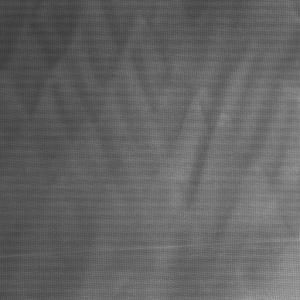Wrinkle: (1, 1, 300, 260)
